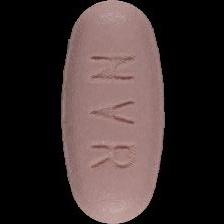54868-5780: (0, 0, 224, 224)
